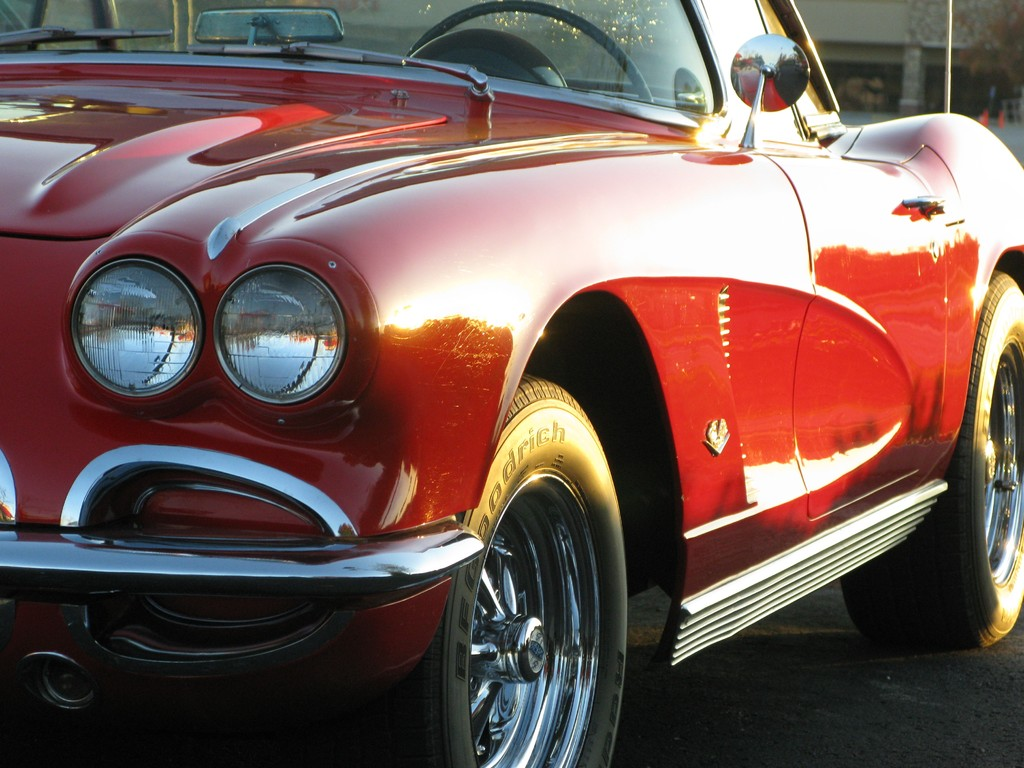Car: (20, 55, 1024, 740)
